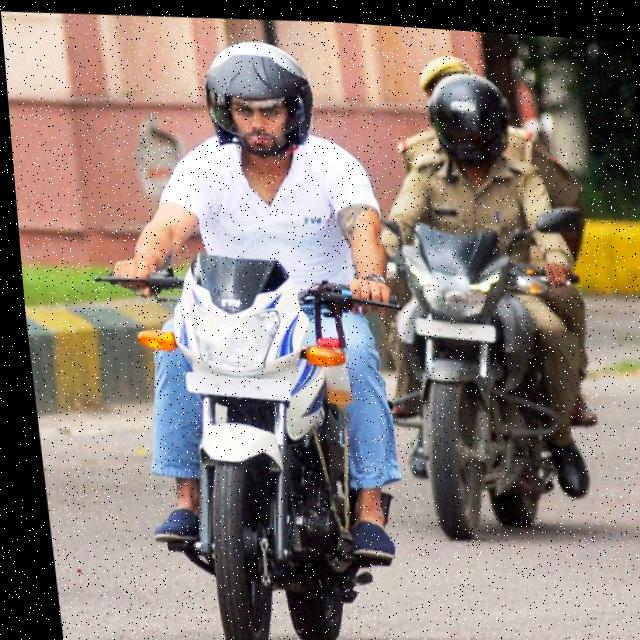helmet: (192, 26, 322, 164), (418, 57, 520, 166)
